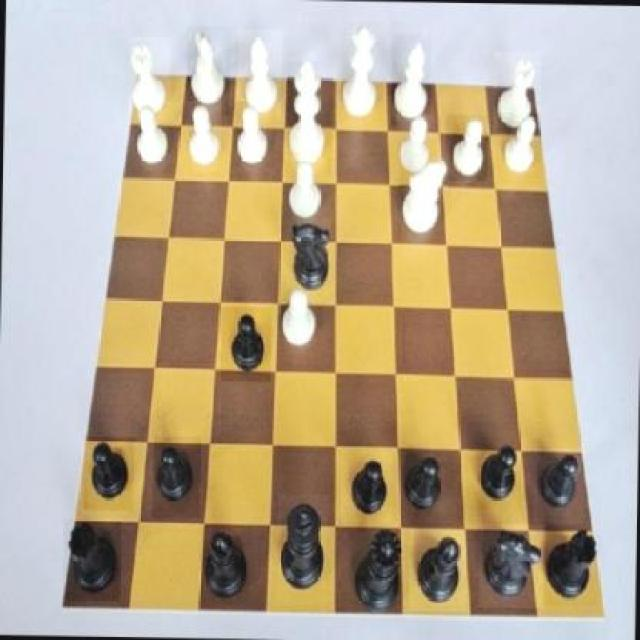bishop: (408, 530, 465, 612), (197, 524, 251, 606)
black-bishop: (277, 492, 328, 606)
black-king: (478, 523, 546, 608), (286, 218, 331, 302)
black-knight: (466, 437, 522, 512), (218, 306, 271, 382), (152, 435, 200, 518), (534, 448, 586, 524), (340, 450, 393, 524), (83, 437, 134, 511), (404, 452, 454, 520)
black-pawn: (345, 522, 407, 618)
black-queen: (61, 518, 120, 601), (543, 526, 599, 606)
black-rook: (237, 29, 283, 119), (391, 34, 431, 126)
white-bishop: (286, 61, 333, 177)
white-king: (398, 152, 448, 237), (186, 26, 230, 116)
white-knight: (497, 114, 541, 184), (283, 157, 326, 228), (232, 102, 276, 168), (444, 115, 488, 180), (182, 100, 220, 174), (280, 284, 321, 352), (396, 114, 436, 178), (132, 104, 173, 166)
white-pawn: (340, 22, 385, 122)
white-queen: (492, 52, 540, 137), (128, 36, 172, 116)
